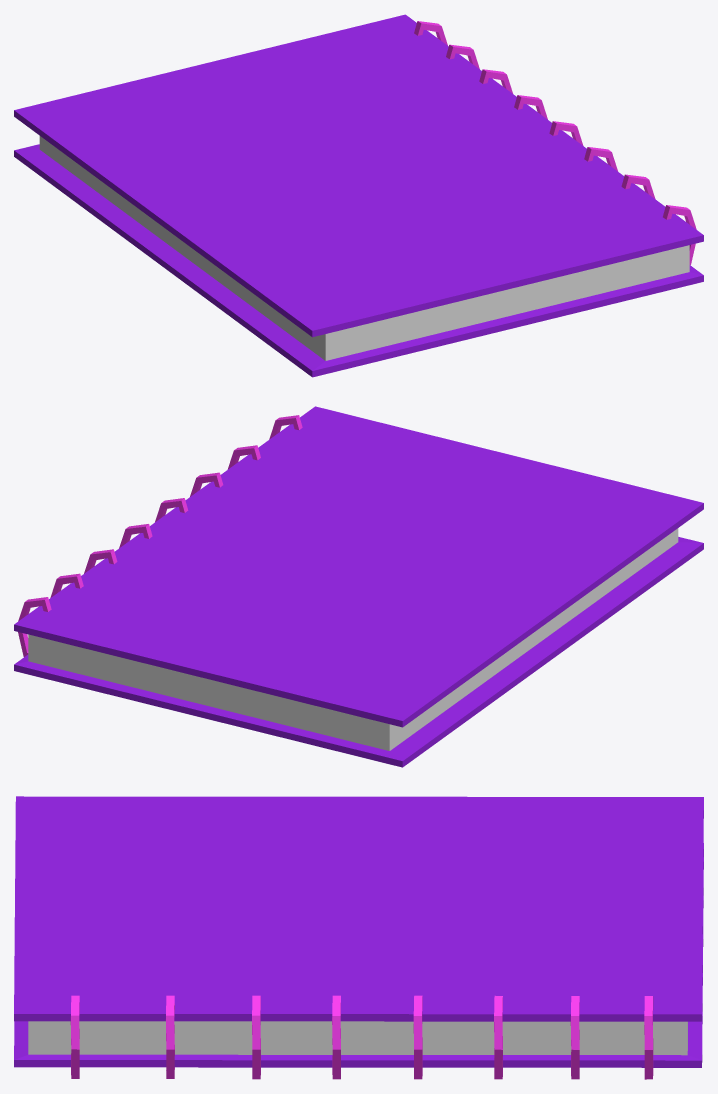
The model's file is Book.fbx.
The picture shows the model from 3 angles, top to bottom: view 1: azimuth 30°, elevation 25°; view 2: azimuth 150°, elevation 25°; view 3: azimuth 270°, elevation 25°; orthographic projection. The views are drawn at different scales.
Parts seen in each view (by area): view 1: Book; view 2: Book; view 3: Book.
Boxes of the visible parts, bbox=[...] form: Book: bbox=[14, 14, 703, 377]; Book: bbox=[14, 406, 703, 767]; Book: bbox=[14, 796, 703, 1079].
Bounding box in the file's own units: 412 × 523 × 66.97.
